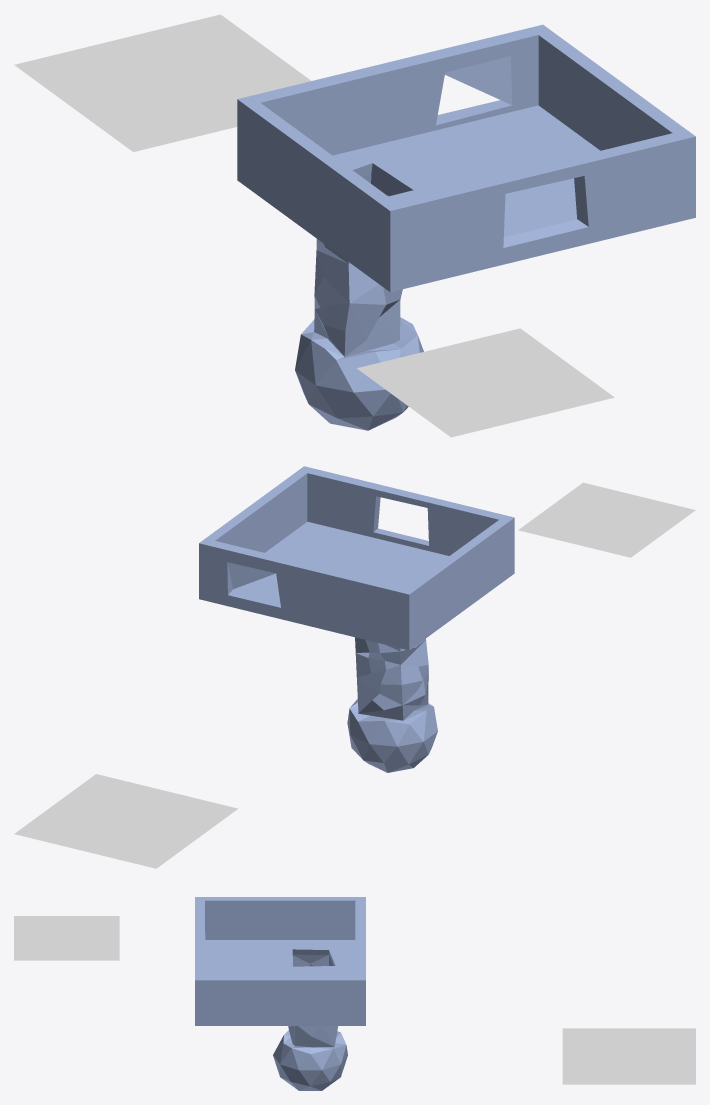
File: threeJsScene.glb
The picture shows the model from 3 angles, top to bottom: view 1: azimuth 30°, elevation 25°; view 2: azimuth 150°, elevation 25°; view 3: azimuth 270°, elevation 25°; orthographic projection. The views are drawn at different scales.
Visible parts, largest first — view 1: Icosphere, Plane, Plane.001; view 2: Icosphere, Plane, Plane.001; view 3: Icosphere, Plane, Plane.001.
Part boxes in pixels (<box>): Icosphere: <box>237,24,695,430</box>; Plane: <box>14,14,310,151</box>; Plane.001: <box>357,328,614,437</box>; Icosphere: <box>199,466,514,772</box>; Plane: <box>14,774,237,868</box>; Plane.001: <box>518,482,695,557</box>; Icosphere: <box>195,897,365,1090</box>; Plane: <box>562,1028,695,1084</box>; Plane.001: <box>14,916,119,960</box>.
Bounding box in the file's own units: 78.65 × 56.86 × 204.
